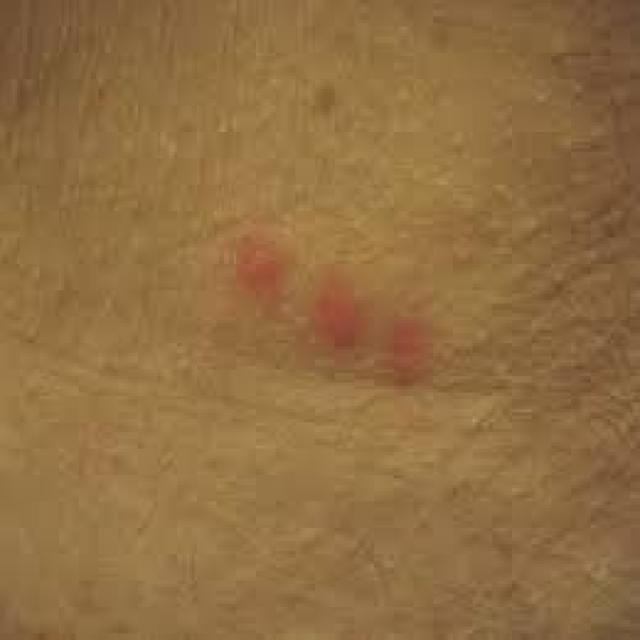kan emici bocekler: (200, 209, 424, 446)
